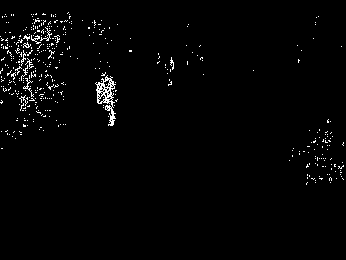person: (90, 69, 123, 131)
